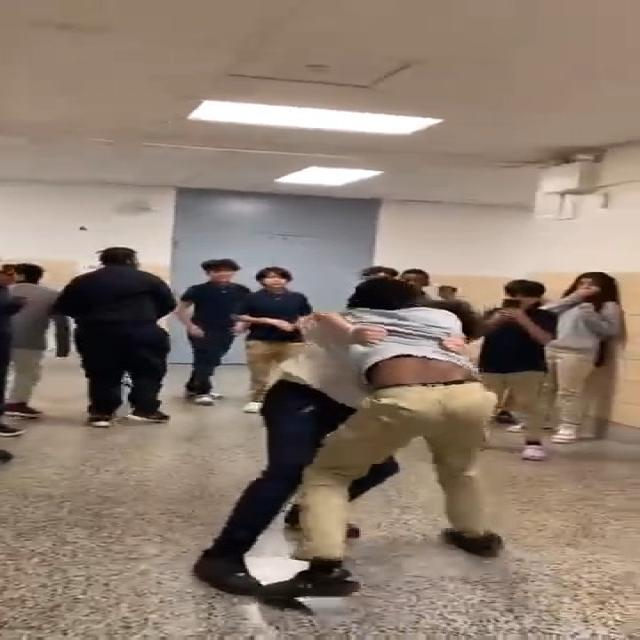fight: (191, 275, 506, 608)
